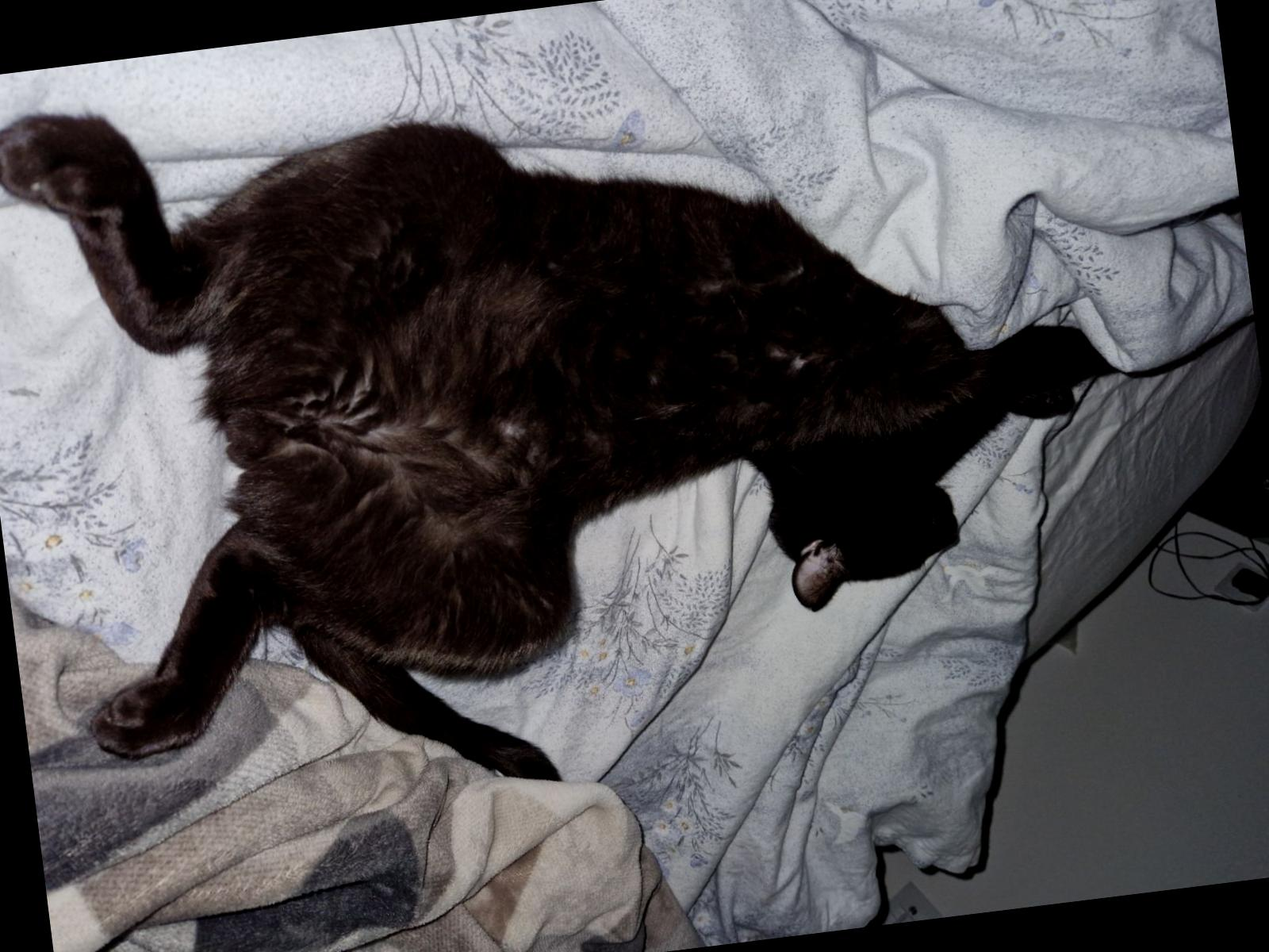macka: (0, 0, 1240, 853)
